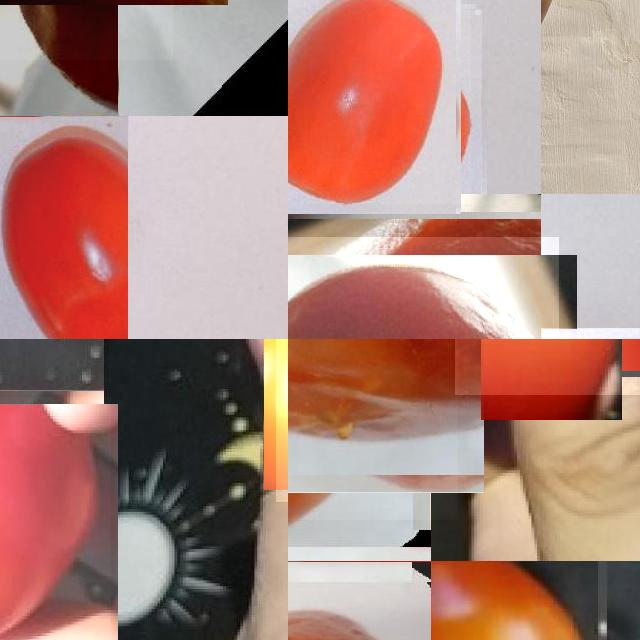0: (0, 397, 111, 640)
Fresh Tomato: (288, 0, 471, 204), (0, 116, 128, 339), (431, 561, 598, 640), (455, 339, 640, 395)
Rotten Tomato: (288, 339, 457, 520), (288, 237, 559, 339), (288, 561, 431, 640), (0, 0, 173, 60)
